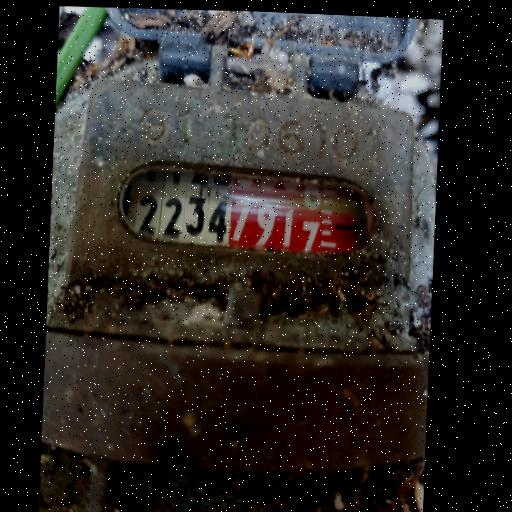1: (274, 179, 304, 253)
2: (131, 168, 167, 239), (157, 170, 190, 244)
3: (180, 172, 212, 247)
4: (204, 173, 236, 248)
7: (293, 182, 339, 254), (225, 174, 259, 250)
9: (249, 177, 283, 253)
border_water_meter_number: (111, 152, 383, 263)
